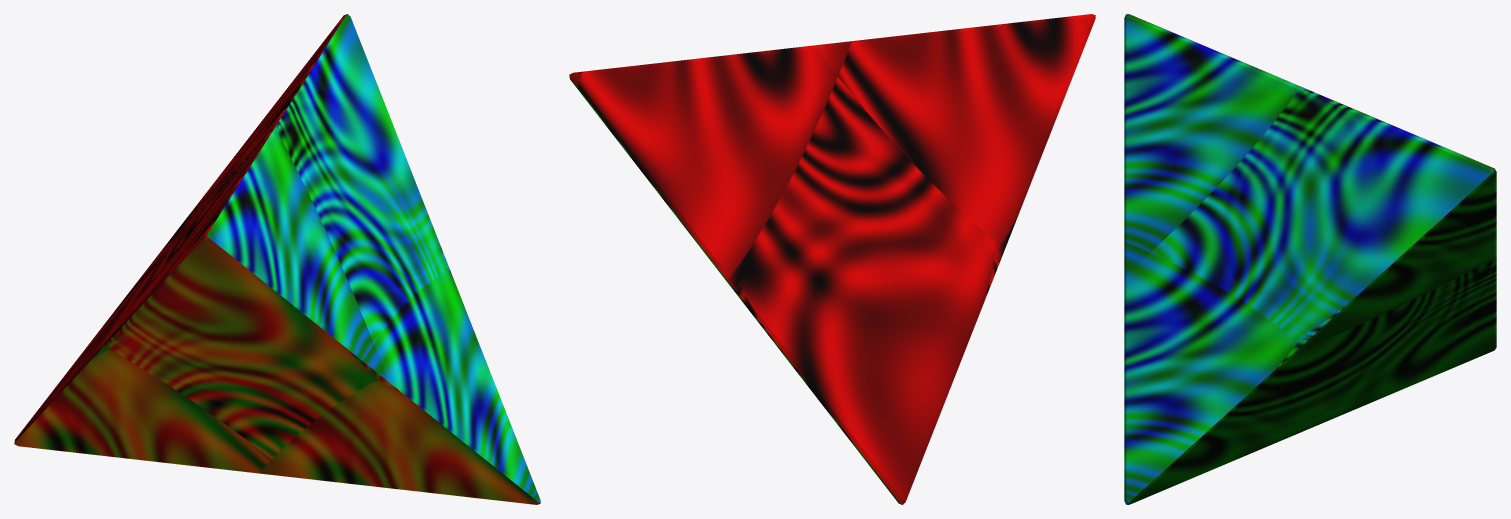
File: tetrahedron.gltf
3 renders of one model, left to right at view 1: azimuth 30°, elevation 25°; view 2: azimuth 150°, elevation 25°; view 3: azimuth 270°, elevation 25°, orthographic. The views are drawn at different scales.
Visible parts, largest first — view 1: tetrahedron; view 2: tetrahedron; view 3: tetrahedron.
Part boxes in pixels (x1,y1,x2,y2): tetrahedron: (14, 14, 540, 504); tetrahedron: (569, 14, 1095, 504); tetrahedron: (1124, 14, 1496, 504).
Bounding box in the file's own units: 1.97 × 1.97 × 1.97.
4 materials, 4 textured.
